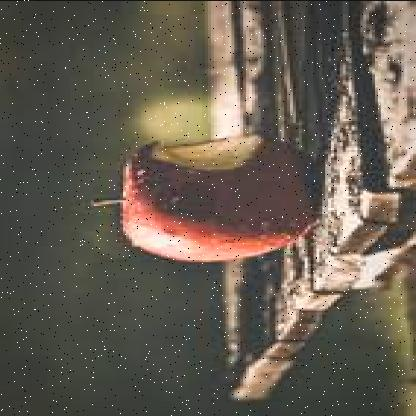damaged_apple: (111, 134, 316, 266)
